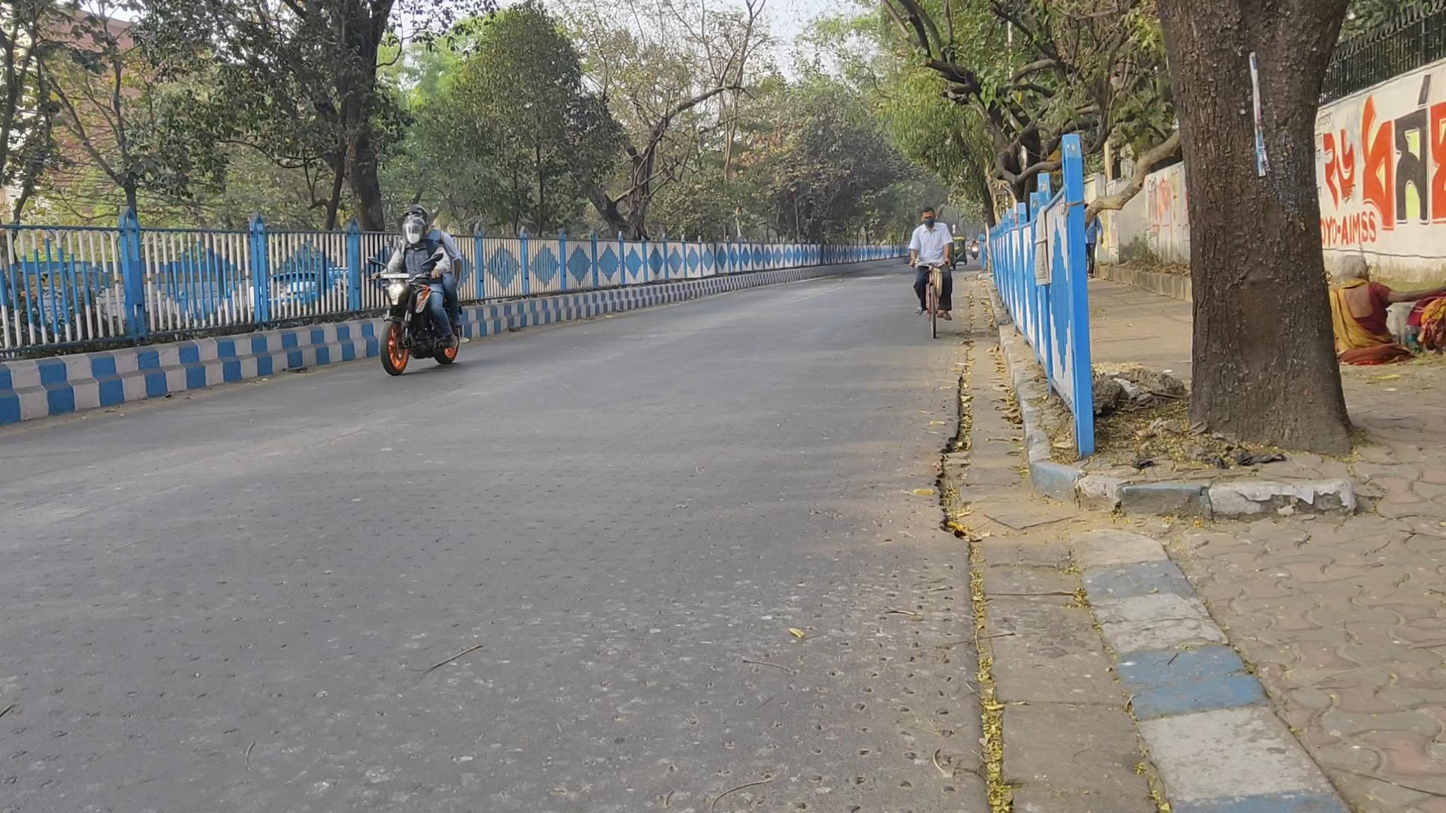bike: (368, 206, 464, 376), (908, 206, 955, 340)
